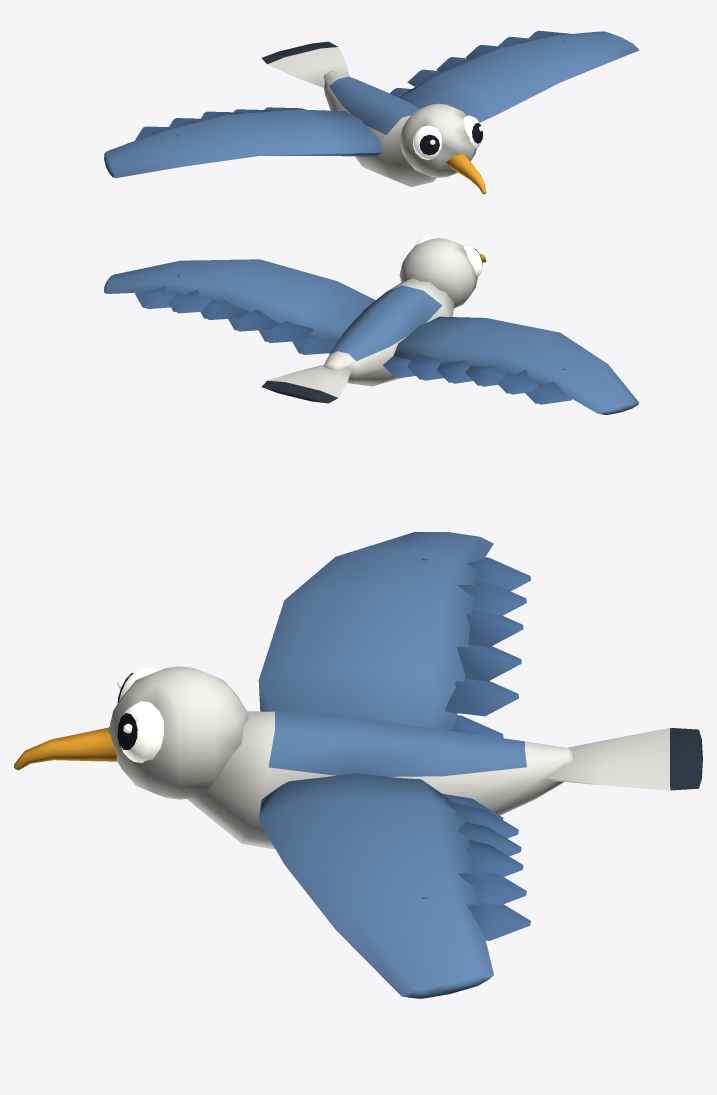
The model's file is bird.glb.
3 views of the same model, one above another, from view 1: azimuth 30°, elevation 25°; view 2: azimuth 150°, elevation 25°; view 3: azimuth 270°, elevation 25° (orthographic). The views are drawn at different scales.
Visible parts, largest first — view 1: Gull left wing wing, Gull body white, Gull right wing wing, Gull right wing feathers, Gull left wing feathers, Gull body eye white, Gull body beak, Gull body pupil; view 2: Gull body white, Gull left wing wing, Gull right wing wing, Gull right wing feathers, Gull left wing feathers, Gull body eye white; view 3: Gull body white, Gull right wing wing, Gull left wing wing, Gull left wing feathers, Gull right wing feathers, Gull body beak, Gull body eye white.
Boxes of the visible parts, <box> form: Gull left wing wing: <box>104,109,382,177</box>; Gull body white: <box>261,41,476,187</box>; Gull right wing wing: <box>399,31,639,122</box>; Gull right wing feathers: <box>390,30,570,97</box>; Gull left wing feathers: <box>135,107,305,140</box>; Gull body eye white: <box>413,115,483,160</box>; Gull body beak: <box>446,153,486,194</box>; Gull body pupil: <box>419,123,482,155</box>; Gull body white: <box>261,238,477,403</box>; Gull left wing wing: <box>393,316,639,414</box>; Gull right wing wing: <box>104,259,375,341</box>; Gull right wing feathers: <box>135,274,336,354</box>; Gull left wing feathers: <box>383,354,571,404</box>; Gull body eye white: <box>415,236,482,276</box>; Gull body white: <box>108,666,702,849</box>; Gull right wing wing: <box>259,773,493,998</box>; Gull left wing wing: <box>258,532,493,730</box>; Gull left wing feathers: <box>422,557,530,738</box>; Gull right wing feathers: <box>422,794,530,940</box>; Gull body beak: <box>14,727,116,770</box>; Gull body eye white: <box>117,667,163,762</box>.
Size of the model in its own units: 3.3 by 0.4763 by 1.67.
